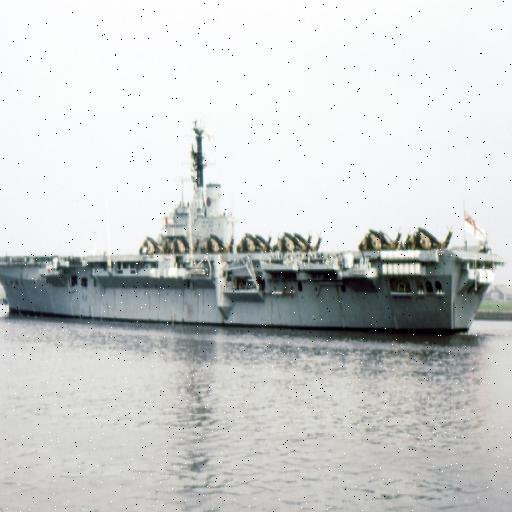Portanaves: (1, 114, 507, 343)
